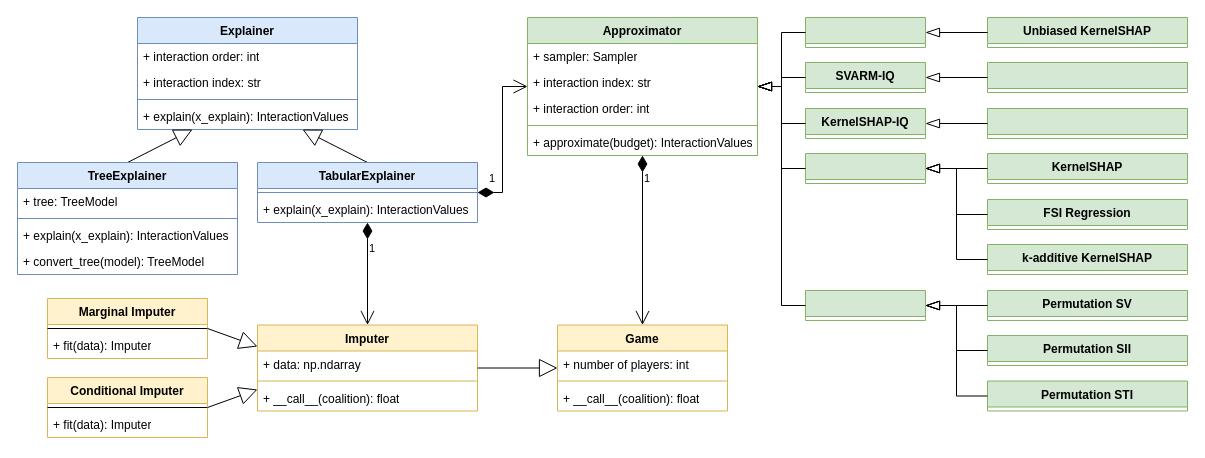
Some shapes in this 1205 by 458 pixel diagram are drawn without their labels. Each missing label, with the centre of its shape:
"Inconsistent KernelSHAP-IQ" belongs at point 1087,123.
"Permutation" belongs at point 865,305.
"Regression" belongs at point 865,168.
"SHAP-IQ" belongs at point 865,32.
"SVARM" belongs at point 1087,77.
